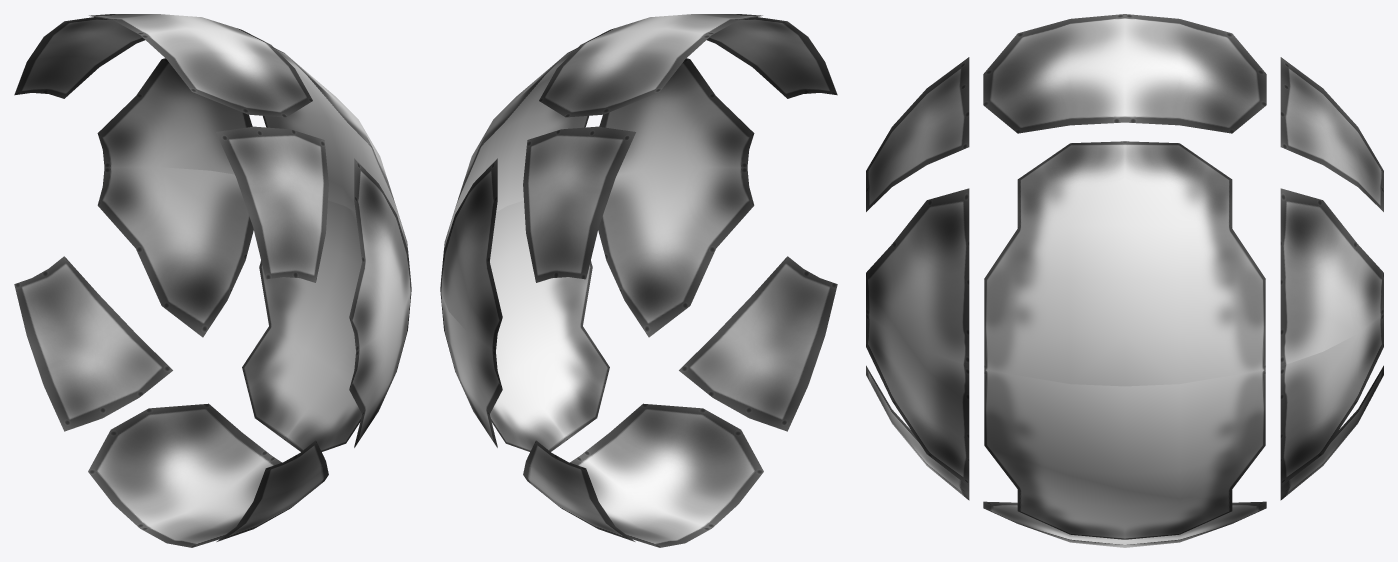
The model's file is BubbleTurret_Glass.FBX.
3 renders of one model, left to right at view 1: azimuth 30°, elevation 25°; view 2: azimuth 150°, elevation 25°; view 3: azimuth 270°, elevation 25°, orthographic. The views are drawn at different scales.
Parts seen in each view (by area): view 1: TurretBall_Glass; view 2: TurretBall_Glass; view 3: TurretBall_Glass.
Boxes of the visible parts, <box> form: TurretBall_Glass: <box>14,14,411,547</box>; TurretBall_Glass: <box>440,14,837,547</box>; TurretBall_Glass: <box>866,14,1383,547</box>.
Bounding box in the file's own units: 150 × 277 × 300.
Materials: 1 (1 with a texture image).
